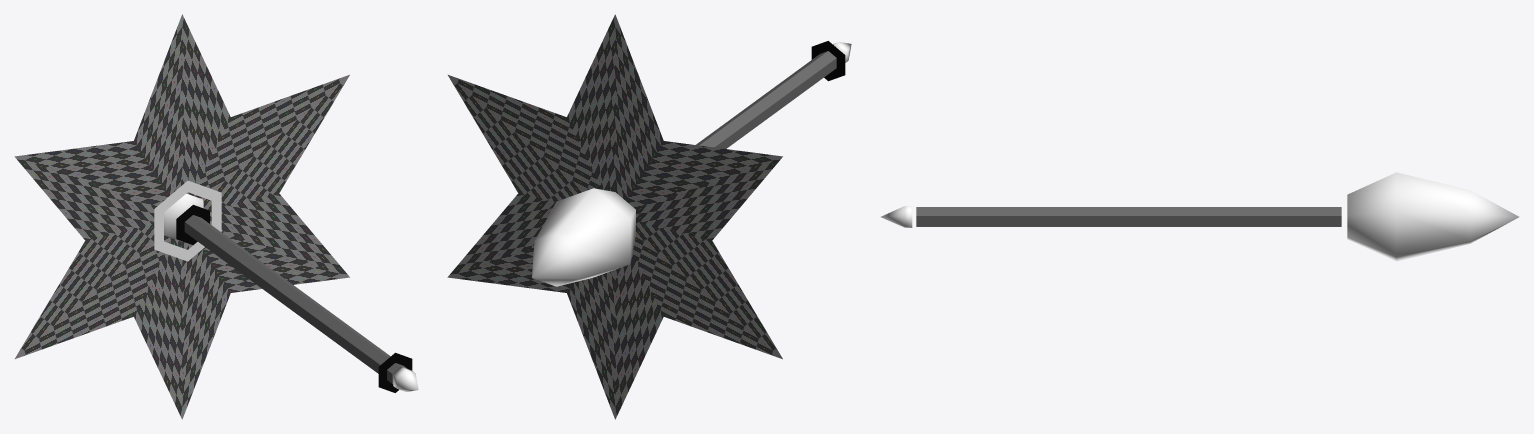
The model's file is wand.glb.
The picture shows the model from 3 angles, left to right: view 1: azimuth 30°, elevation 25°; view 2: azimuth 150°, elevation 25°; view 3: azimuth 270°, elevation 25°; orthographic projection.
Parts seen in each view (by area): view 1: corona, rod, ring, crystal, hilt; view 2: corona, crystal, rod; view 3: crystal, rod.
Boxes of the visible parts, box(x1,y1,x2,y2) form: corona: box(14, 14, 349, 419); rod: box(176, 204, 412, 392); ring: box(154, 180, 221, 261); crystal: box(164, 193, 203, 241); hilt: box(393, 367, 418, 391); corona: box(447, 14, 782, 419); crystal: box(532, 188, 635, 286); rod: box(696, 41, 845, 148); crystal: box(1347, 172, 1518, 261); rod: box(916, 207, 1341, 226).
Bounding box in the file's own units: 0.433 × 0.5 × 0.7137.
5 materials, 1 textured.
